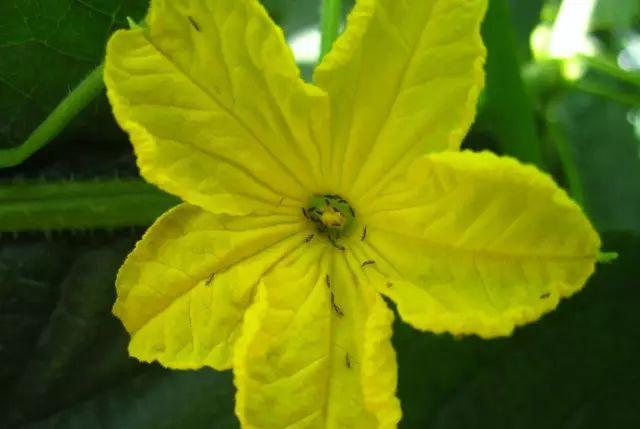Phlaeothripidae: (187, 11, 208, 37), (359, 223, 369, 242), (206, 270, 217, 287), (306, 231, 317, 245), (323, 272, 330, 287), (302, 202, 306, 224)
